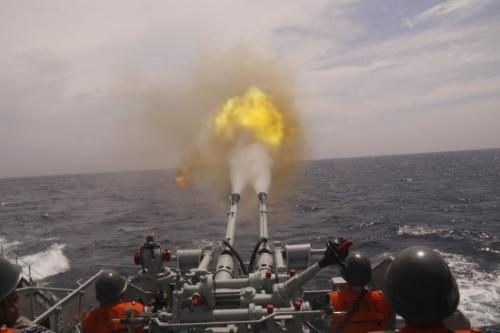fire: (213, 84, 295, 144)
